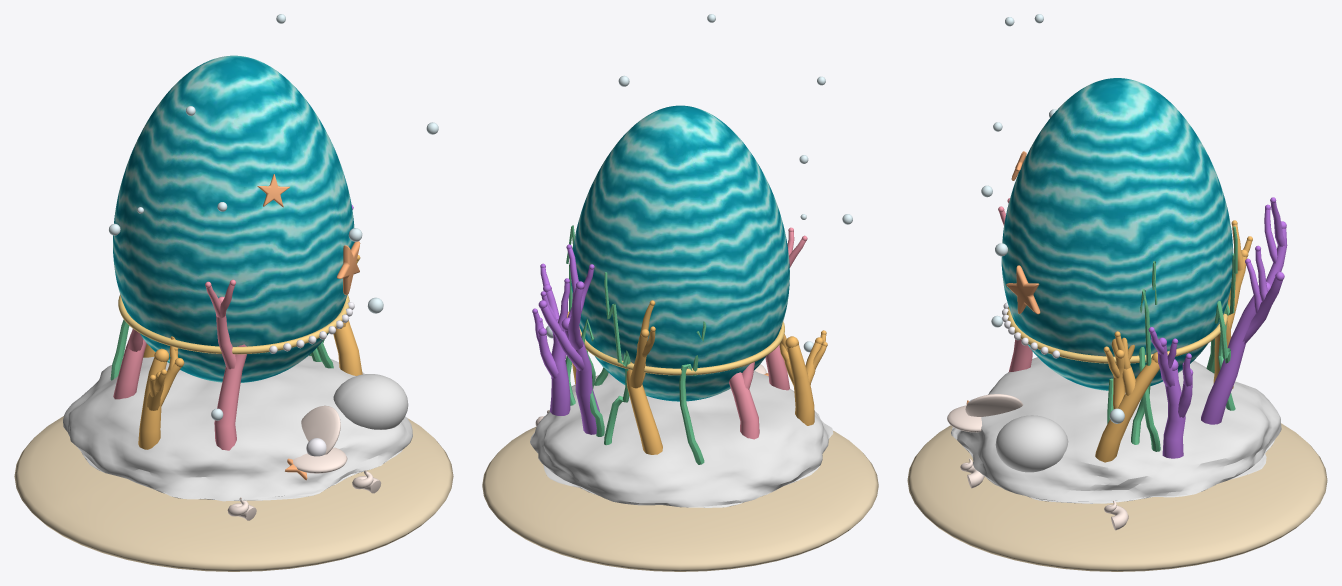
The model's file is coralreefegg.glb.
3 views of the same model, side by side, from view 1: azimuth 30°, elevation 25°; view 2: azimuth 150°, elevation 25°; view 3: azimuth 270°, elevation 25° (orthographic). The views are drawn at different scales.
Parts seen in each view (by area): view 1: CoralReefEgg_Body, CoralReefEgg_SandFloor, CoralReefEgg_RockBase, CoralReefEgg_BrainCoral, CoralReefEgg_GoldBand, CoralReefEgg_CoralBranch, CoralReefEgg_ClamTop, CoralReefEgg_CoralBranch.028, CoralReefEgg_CoralBranch.021, CoralReefEgg_CoralBranch.007, CoralReefEgg_Clam, CoralReefEgg_Starfish (+1 smaller); view 2: CoralReefEgg_Body, CoralReefEgg_SandFloor, CoralReefEgg_RockBase, CoralReefEgg_GoldBand, CoralReefEgg_CoralBranch.042, CoralReefEgg_CoralBranch.028, CoralReefEgg_CoralBranch.014, CoralReefEgg_CoralBranch.021, CoralReefEgg_CoralBranch.035, CoralReefEgg_Seaweed.001, CoralReefEgg_Seaweed.005, CoralReefEgg_CoralBranch.015 (+3 smaller); view 3: CoralReefEgg_Body, CoralReefEgg_SandFloor, CoralReefEgg_RockBase, CoralReefEgg_BrainCoral, CoralReefEgg_CoralBranch.014, CoralReefEgg_CoralBranch.007, CoralReefEgg_CoralBranch.035, CoralReefEgg_GoldBand, CoralReefEgg_ClamTop, CoralReefEgg_Starfish, CoralReefEgg_Seaweed, CoralReefEgg_Seaweed.003 (+4 smaller).
Part boxes in pixels (bbox=[...]): CoralReefEgg_Body: bbox=[113, 55, 354, 382]; CoralReefEgg_SandFloor: bbox=[14, 416, 453, 571]; CoralReefEgg_RockBase: bbox=[63, 355, 412, 501]; CoralReefEgg_BrainCoral: bbox=[333, 374, 408, 429]; CoralReefEgg_GoldBand: bbox=[118, 294, 349, 354]; CoralReefEgg_CoralBranch: bbox=[214, 344, 246, 450]; CoralReefEgg_ClamTop: bbox=[301, 405, 340, 454]; CoralReefEgg_CoralBranch.028: bbox=[138, 357, 167, 449]; CoralReefEgg_CoralBranch.021: bbox=[113, 329, 146, 399]; CoralReefEgg_CoralBranch.007: bbox=[333, 320, 362, 375]; CoralReefEgg_Clam: bbox=[289, 447, 347, 473]; CoralReefEgg_Starfish: bbox=[336, 241, 360, 294]; CoralReefEgg_Body: bbox=[571, 105, 789, 401]; CoralReefEgg_SandFloor: bbox=[482, 426, 878, 571]; CoralReefEgg_RockBase: bbox=[530, 370, 833, 507]; CoralReefEgg_GoldBand: bbox=[579, 321, 784, 375]; CoralReefEgg_CoralBranch.042: bbox=[626, 362, 662, 454]; CoralReefEgg_CoralBranch.028: bbox=[787, 344, 814, 425]; CoralReefEgg_CoralBranch.014: bbox=[564, 330, 599, 434]; CoralReefEgg_CoralBranch.021: bbox=[729, 372, 759, 439]; CoralReefEgg_CoralBranch.035: bbox=[550, 330, 570, 415]; CoralReefEgg_Seaweed.001: bbox=[604, 272, 630, 445]; CoralReefEgg_Seaweed.005: bbox=[679, 321, 706, 464]; CoralReefEgg_CoralBranch.015: bbox=[540, 305, 584, 370]; CoralReefEgg_Body: bbox=[1001, 78, 1233, 390]; CoralReefEgg_SandFloor: bbox=[907, 423, 1327, 571]; CoralReefEgg_RockBase: bbox=[951, 357, 1281, 503]; CoralReefEgg_BrainCoral: bbox=[995, 415, 1068, 472]; CoralReefEgg_CoralBranch.014: bbox=[1201, 295, 1261, 424]; CoralReefEgg_CoralBranch.007: bbox=[1095, 358, 1159, 462]; CoralReefEgg_CoralBranch.035: bbox=[1162, 369, 1185, 458]; CoralReefEgg_GoldBand: bbox=[1006, 307, 1228, 363]; CoralReefEgg_ClamTop: bbox=[965, 394, 1023, 416]; CoralReefEgg_Starfish: bbox=[1006, 265, 1040, 314]; CoralReefEgg_Seaweed: bbox=[1139, 261, 1160, 451]; CoralReefEgg_Seaweed.003: bbox=[1131, 289, 1151, 444].
Bounding box in the file's own units: 4.6 × 5.94 × 4.6.
Materials: 13 (1 with a texture image).
